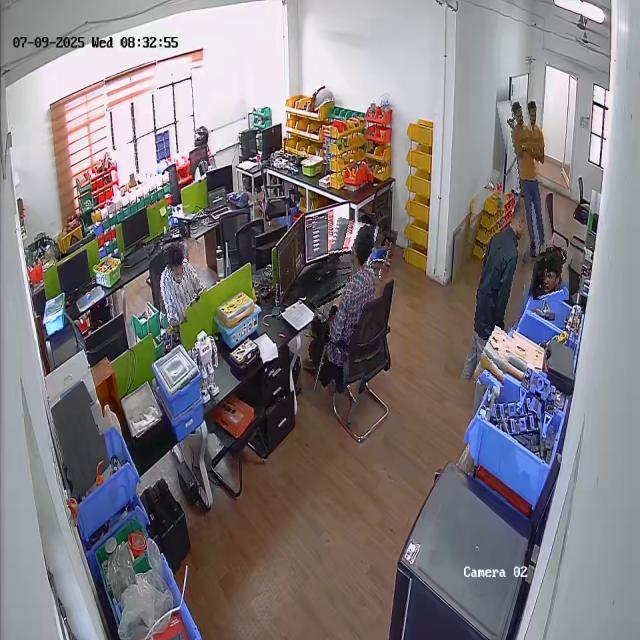person: (451, 189, 529, 386), (306, 220, 388, 400), (505, 98, 551, 268), (150, 240, 209, 326), (531, 246, 571, 302)
